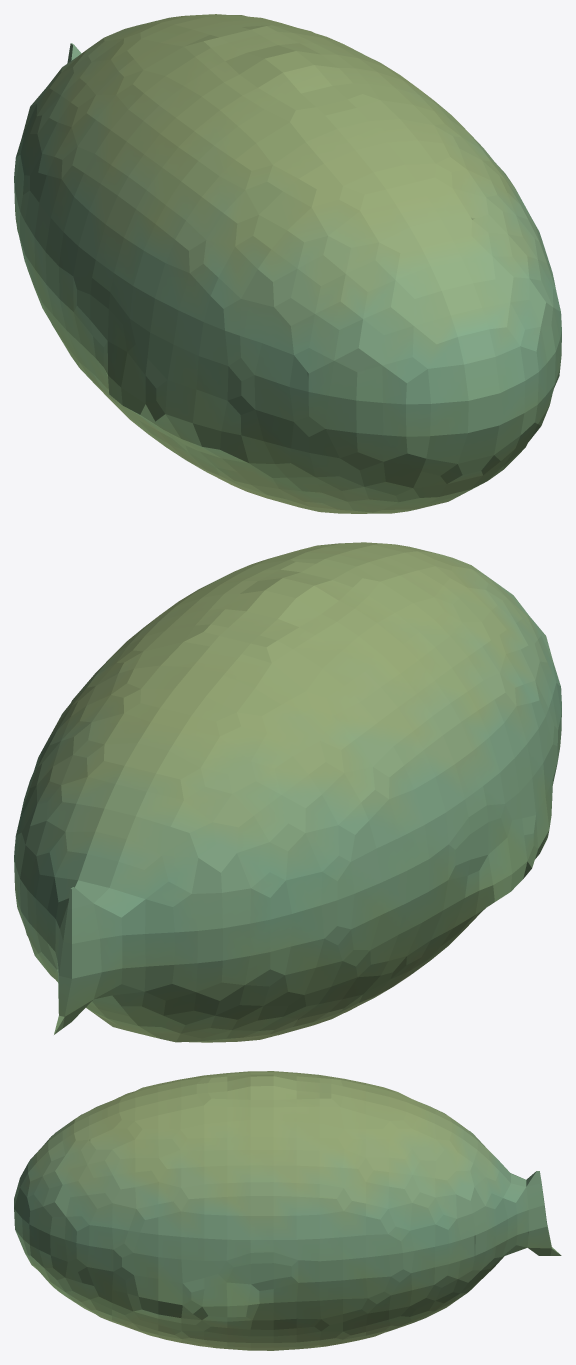
Rendered from seahorseKnight.glb.
The picture shows the model from 3 angles, top to bottom: view 1: azimuth 30°, elevation 25°; view 2: azimuth 150°, elevation 25°; view 3: azimuth 270°, elevation 25°; orthographic projection. The views are drawn at different scales.
Parts seen in each view (by area): view 1: geometry_0; view 2: geometry_0; view 3: geometry_0.
Boxes of the visible parts, box(x1,y1,x2,y2) form: geometry_0: box(14, 14, 561, 513); geometry_0: box(14, 542, 561, 1042); geometry_0: box(14, 1071, 561, 1350).
Size of the model in its own units: 0.8522 by 0.8387 by 1.63.
Materials: 1 (1 with a texture image).
